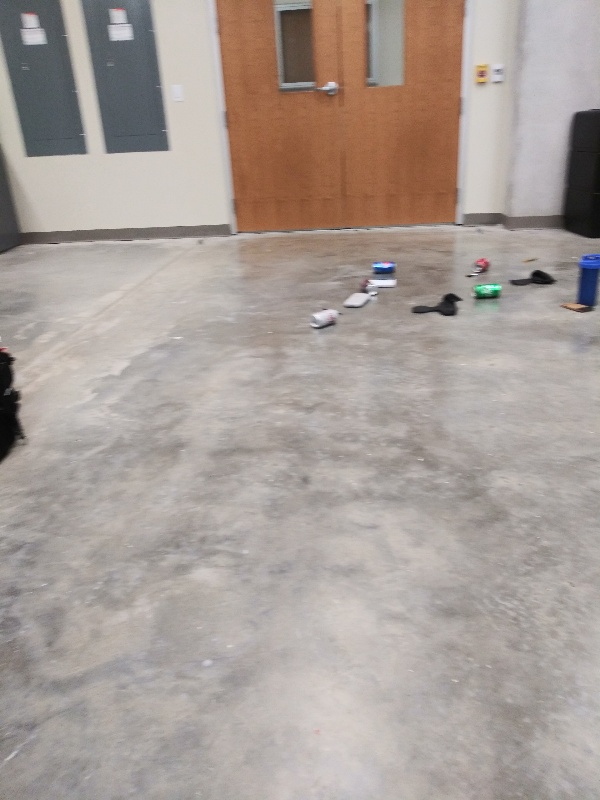can: (307, 307, 340, 330), (468, 281, 505, 300), (371, 261, 399, 274), (361, 278, 380, 297), (472, 258, 490, 273)
